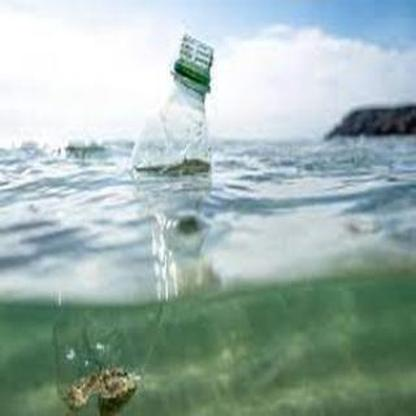plastic bottle: (132, 31, 217, 168)
